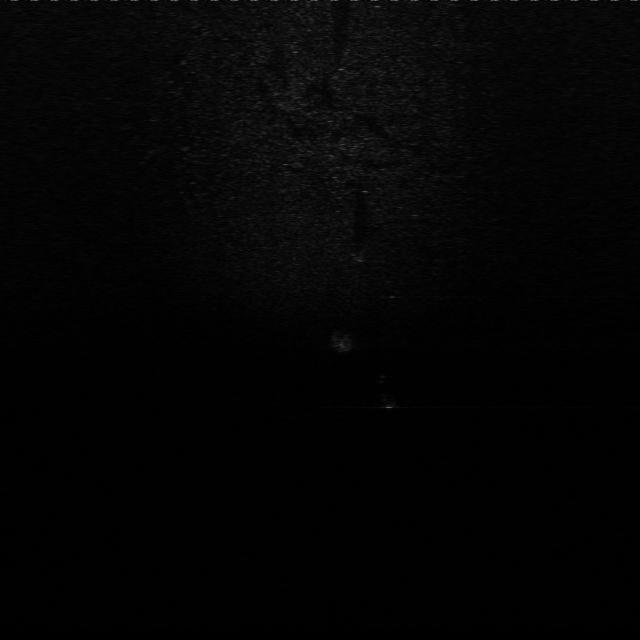ball: (338, 243, 369, 265)
circle cage: (322, 319, 359, 354)
tyre: (372, 366, 411, 413)
